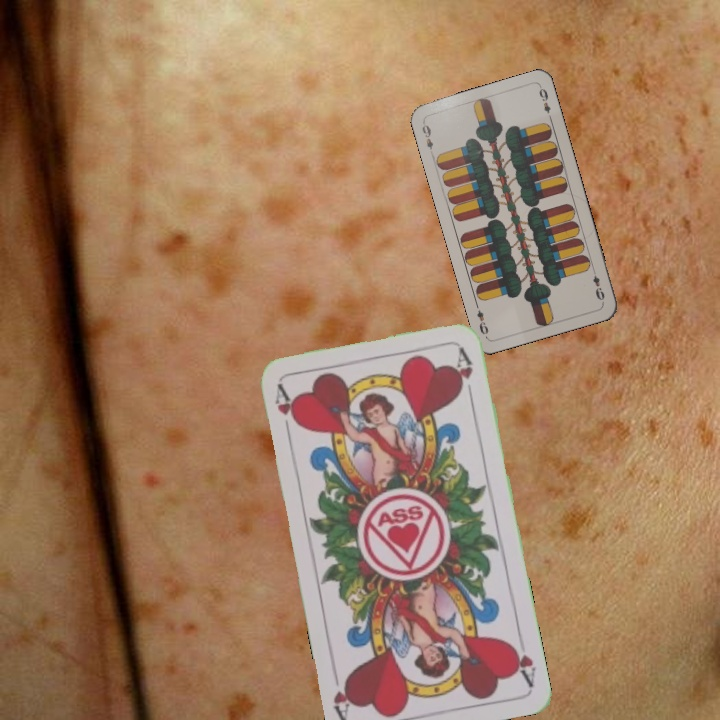E9: (588, 265, 607, 304), (418, 118, 436, 158)
HA: (506, 630, 539, 688), (270, 381, 301, 440)
